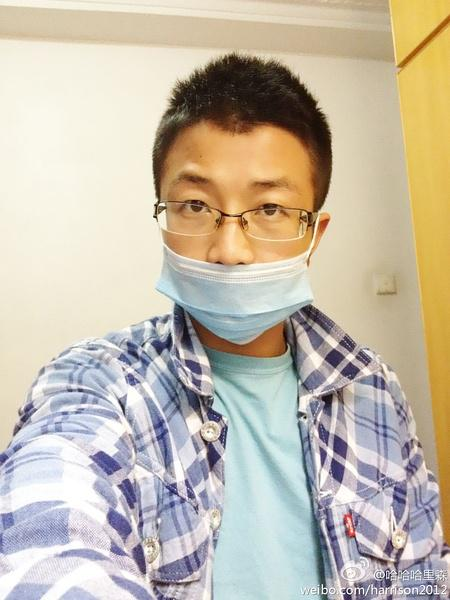WRONG: (149, 166, 325, 342)
